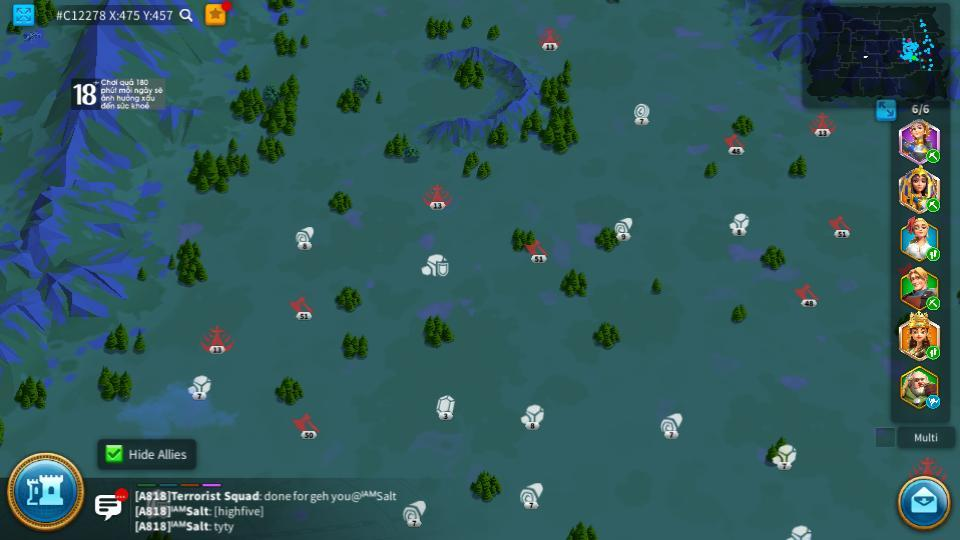gem-z-out: (521, 403, 544, 426), (435, 394, 455, 418)
march_idle: (925, 396, 942, 408)
march_marching: (925, 197, 941, 212), (925, 345, 941, 359), (925, 297, 942, 308), (925, 250, 942, 261), (925, 151, 941, 162)
